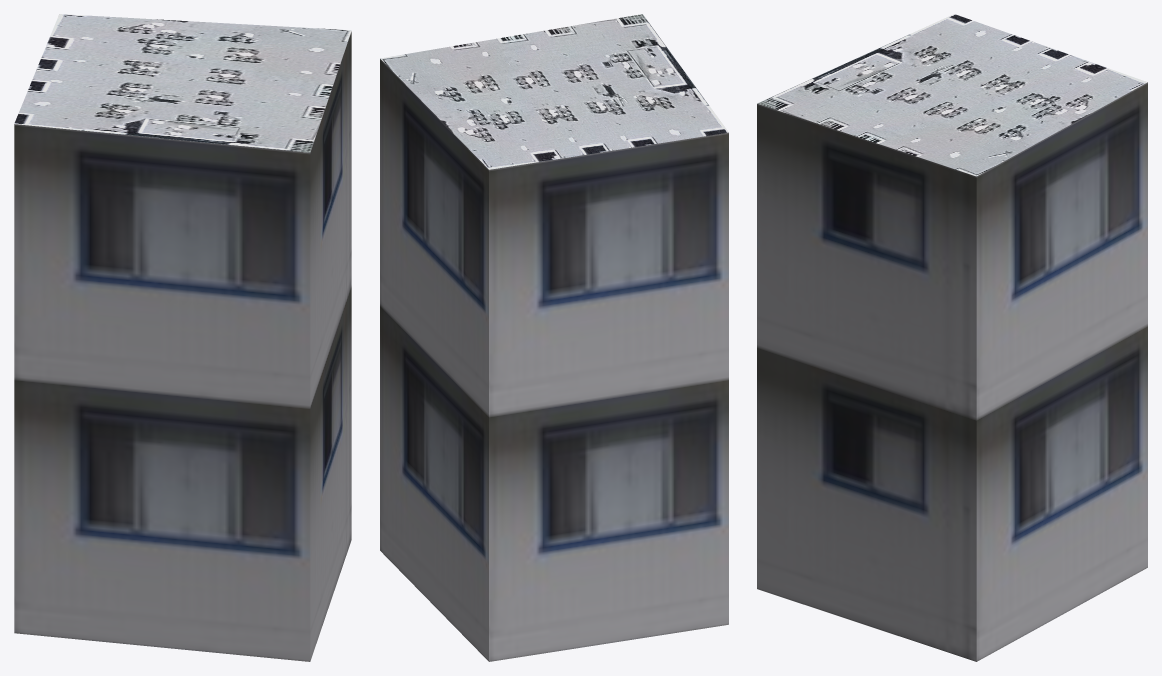
File: ResTex__3396.fbx
3 views of the same model, side by side, from view 1: azimuth 30°, elevation 25°; view 2: azimuth 150°, elevation 25°; view 3: azimuth 270°, elevation 25° (orthographic). The views are drawn at different scales.
Parts seen in each view (by area): view 1: CityEngineMaterial_9_m, CityEngineMaterial_m; view 2: CityEngineMaterial_9_m, CityEngineMaterial_m; view 3: CityEngineMaterial_9_m, CityEngineMaterial_m.
Boxes of the visible parts, x1,y1,x2,y2 form: CityEngineMaterial_9_m: (14,31,351,661); CityEngineMaterial_m: (14,14,351,152); CityEngineMaterial_9_m: (380,59,728,661); CityEngineMaterial_m: (380,14,728,169); CityEngineMaterial_9_m: (757,82,1147,661); CityEngineMaterial_m: (757,14,1147,176).
Size of the model in its own units: 4.31 by 6 by 4.38.
2 materials, 2 textured.
